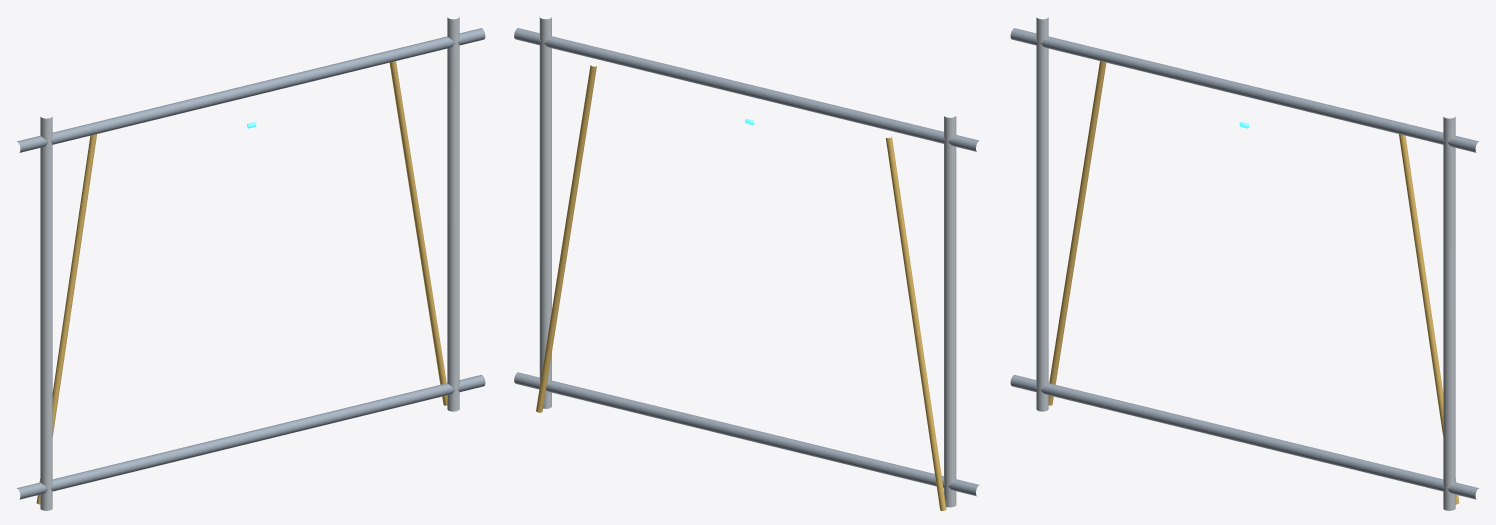
The model's file is 13_L87_GravityStationFixedSupportFrame.glb.
3 renders of one model, left to right at view 1: azimuth 30°, elevation 25°; view 2: azimuth 150°, elevation 25°; view 3: azimuth 330°, elevation 25°, orthographic.
Parts seen in each view (by area): view 1: L87_GravityStationFixedSuppor_Part_0002, L87_GravityStationFixedSuppor_Part_0000, L87_GravityStationFixedSuppor_Part_0001; view 2: L87_GravityStationFixedSuppor_Part_0002, L87_GravityStationFixedSuppor_Part_0000, L87_GravityStationFixedSuppor_Part_0001; view 3: L87_GravityStationFixedSuppor_Part_0002, L87_GravityStationFixedSuppor_Part_0000, L87_GravityStationFixedSuppor_Part_0001.
Boxes of the visible parts, left/top/right/bottom form: L87_GravityStationFixedSuppor_Part_0002: left=17, top=28, right=485, bottom=499; L87_GravityStationFixedSuppor_Part_0000: left=40, top=17, right=459, bottom=510; L87_GravityStationFixedSuppor_Part_0001: left=36, top=61, right=447, bottom=504; L87_GravityStationFixedSuppor_Part_0002: left=514, top=28, right=979, bottom=496; L87_GravityStationFixedSuppor_Part_0000: left=539, top=16, right=956, bottom=507; L87_GravityStationFixedSuppor_Part_0001: left=536, top=65, right=946, bottom=510; L87_GravityStationFixedSuppor_Part_0002: left=1010, top=28, right=1478, bottom=499; L87_GravityStationFixedSuppor_Part_0000: left=1036, top=17, right=1455, bottom=510; L87_GravityStationFixedSuppor_Part_0001: left=1048, top=61, right=1459, bottom=504.
Bounding box in the file's own units: 16 × 12.91 × 0.69.
